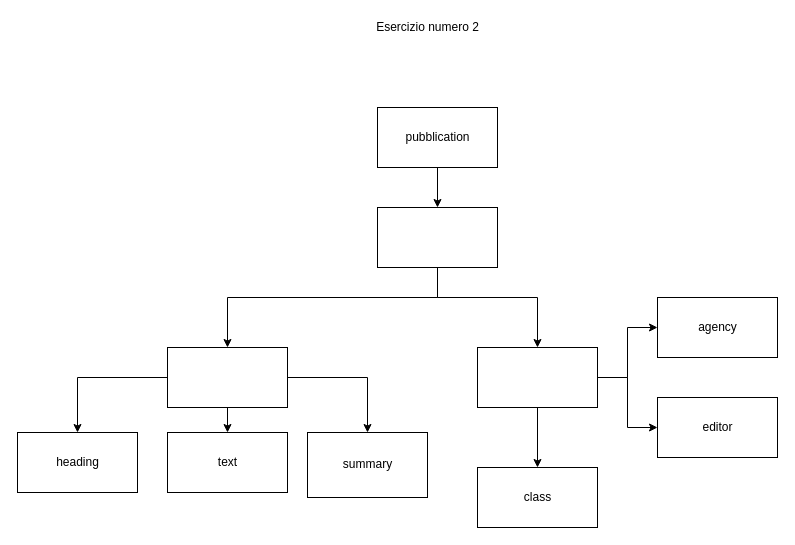
This 795x545 diagram has some shape labels left out. Here are the shapes that lost their labels. From the top down, the centre of each, then its label:
At [437,237]: "newsitem".
At [227,377]: "article".
At [537,377]: "source".
